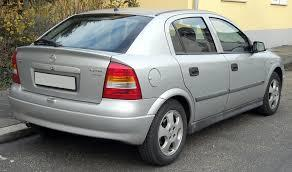opel: (45, 50, 57, 65)
